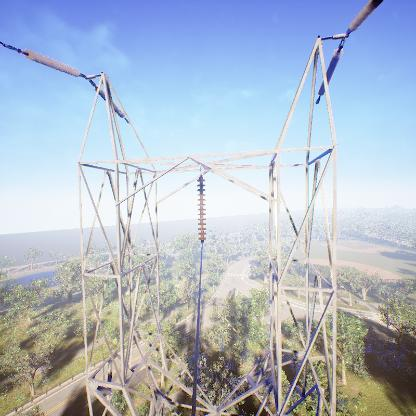insulator: (23, 48, 82, 79), (318, 47, 343, 96), (195, 176, 208, 246)
